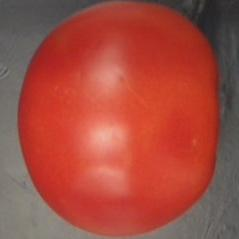unripe: (16, 1, 223, 239)
